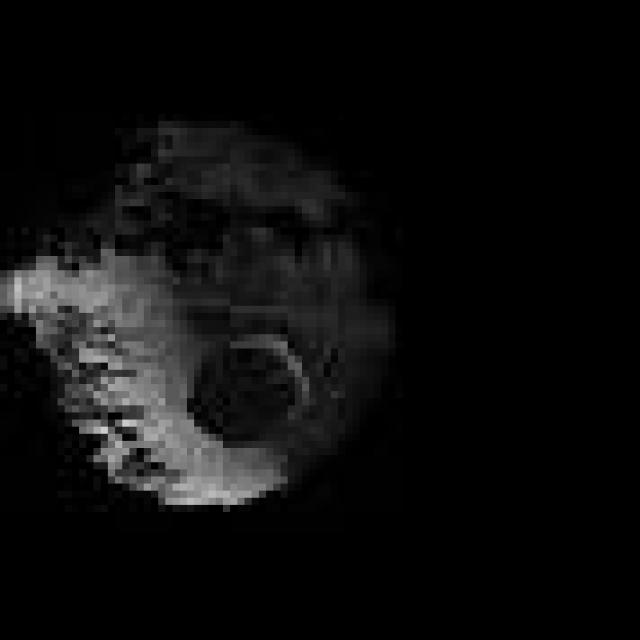Death Star: (0, 107, 403, 519)
